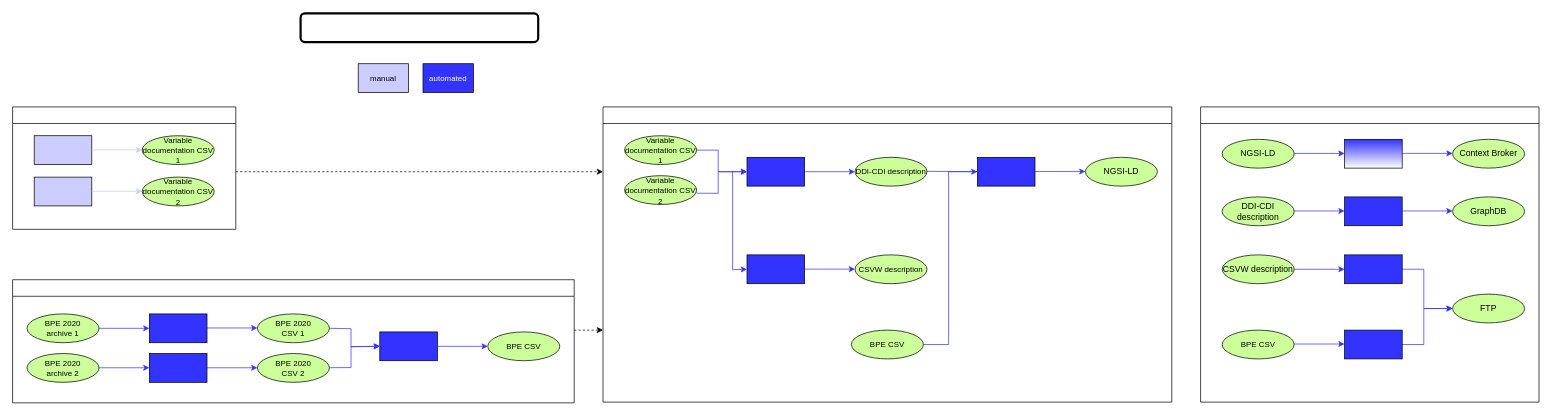
Some shapes in this 1552 by 415 pixel diagram are drawn without their labels. The box of each missing label's shape, as (x1, y1, x2, y2) in pixels:
FRENCH GF ETL PROCESS: (299, 12, 539, 43)
gf-data-extract: (12, 279, 574, 403)
gf-load: (1200, 106, 1539, 402)
gf-metadata-extract: (12, 106, 236, 229)
gf-transform: (602, 106, 1172, 402)
